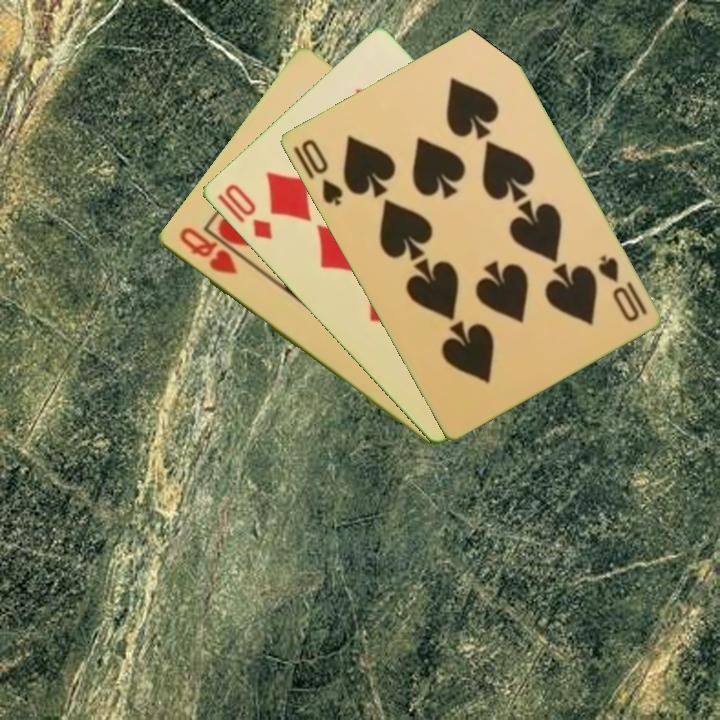10d: (213, 180, 275, 243)
10s: (593, 251, 650, 325), (297, 135, 346, 209)
Qh: (175, 223, 240, 278)
